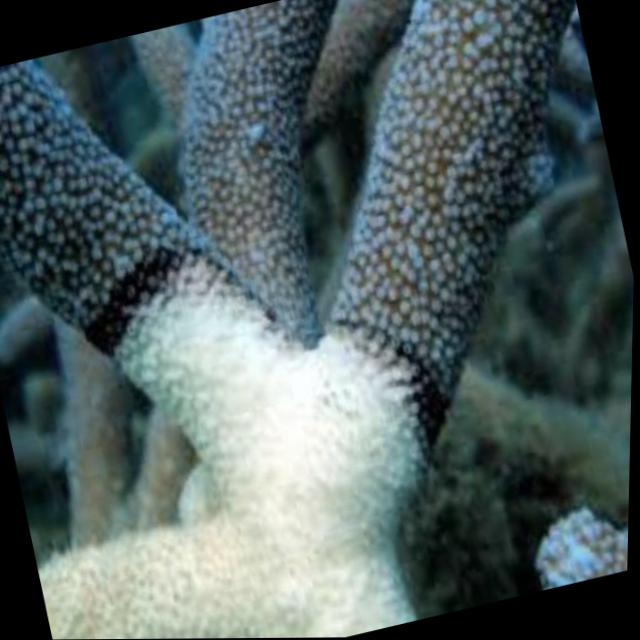Bleached Coral: (0, 206, 498, 640)
